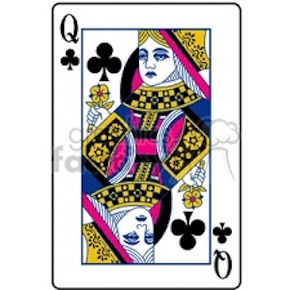QueenOfClubs: (48, 1, 244, 290)
